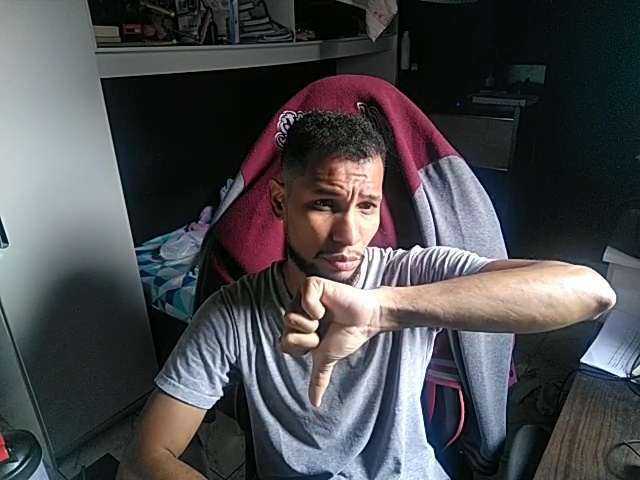não: (273, 268, 374, 416)
